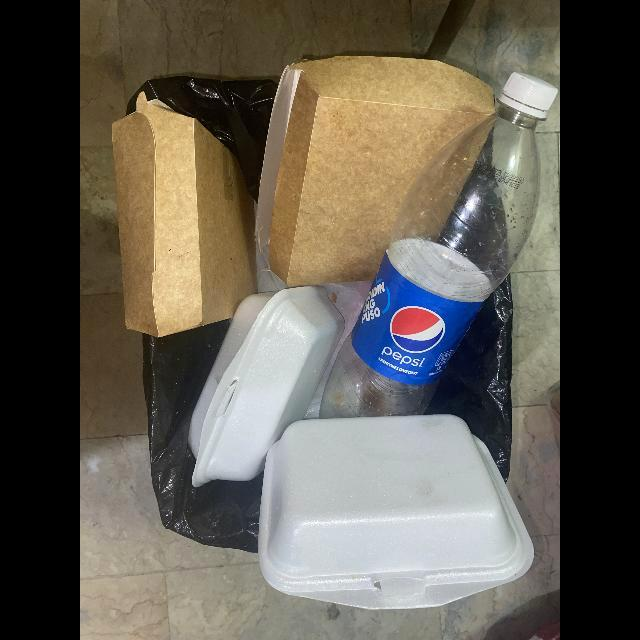cardboard: (255, 55, 499, 294), (110, 97, 256, 340)
plastic_bottle: (319, 72, 558, 420)
